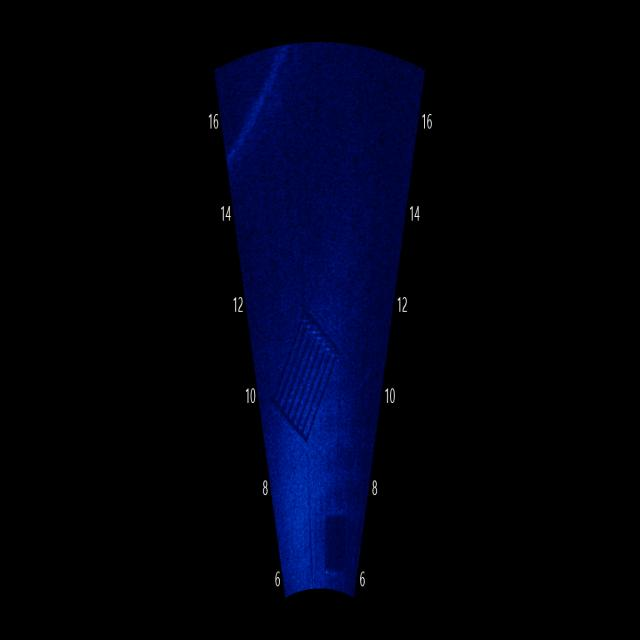square: (276, 301, 346, 456)
